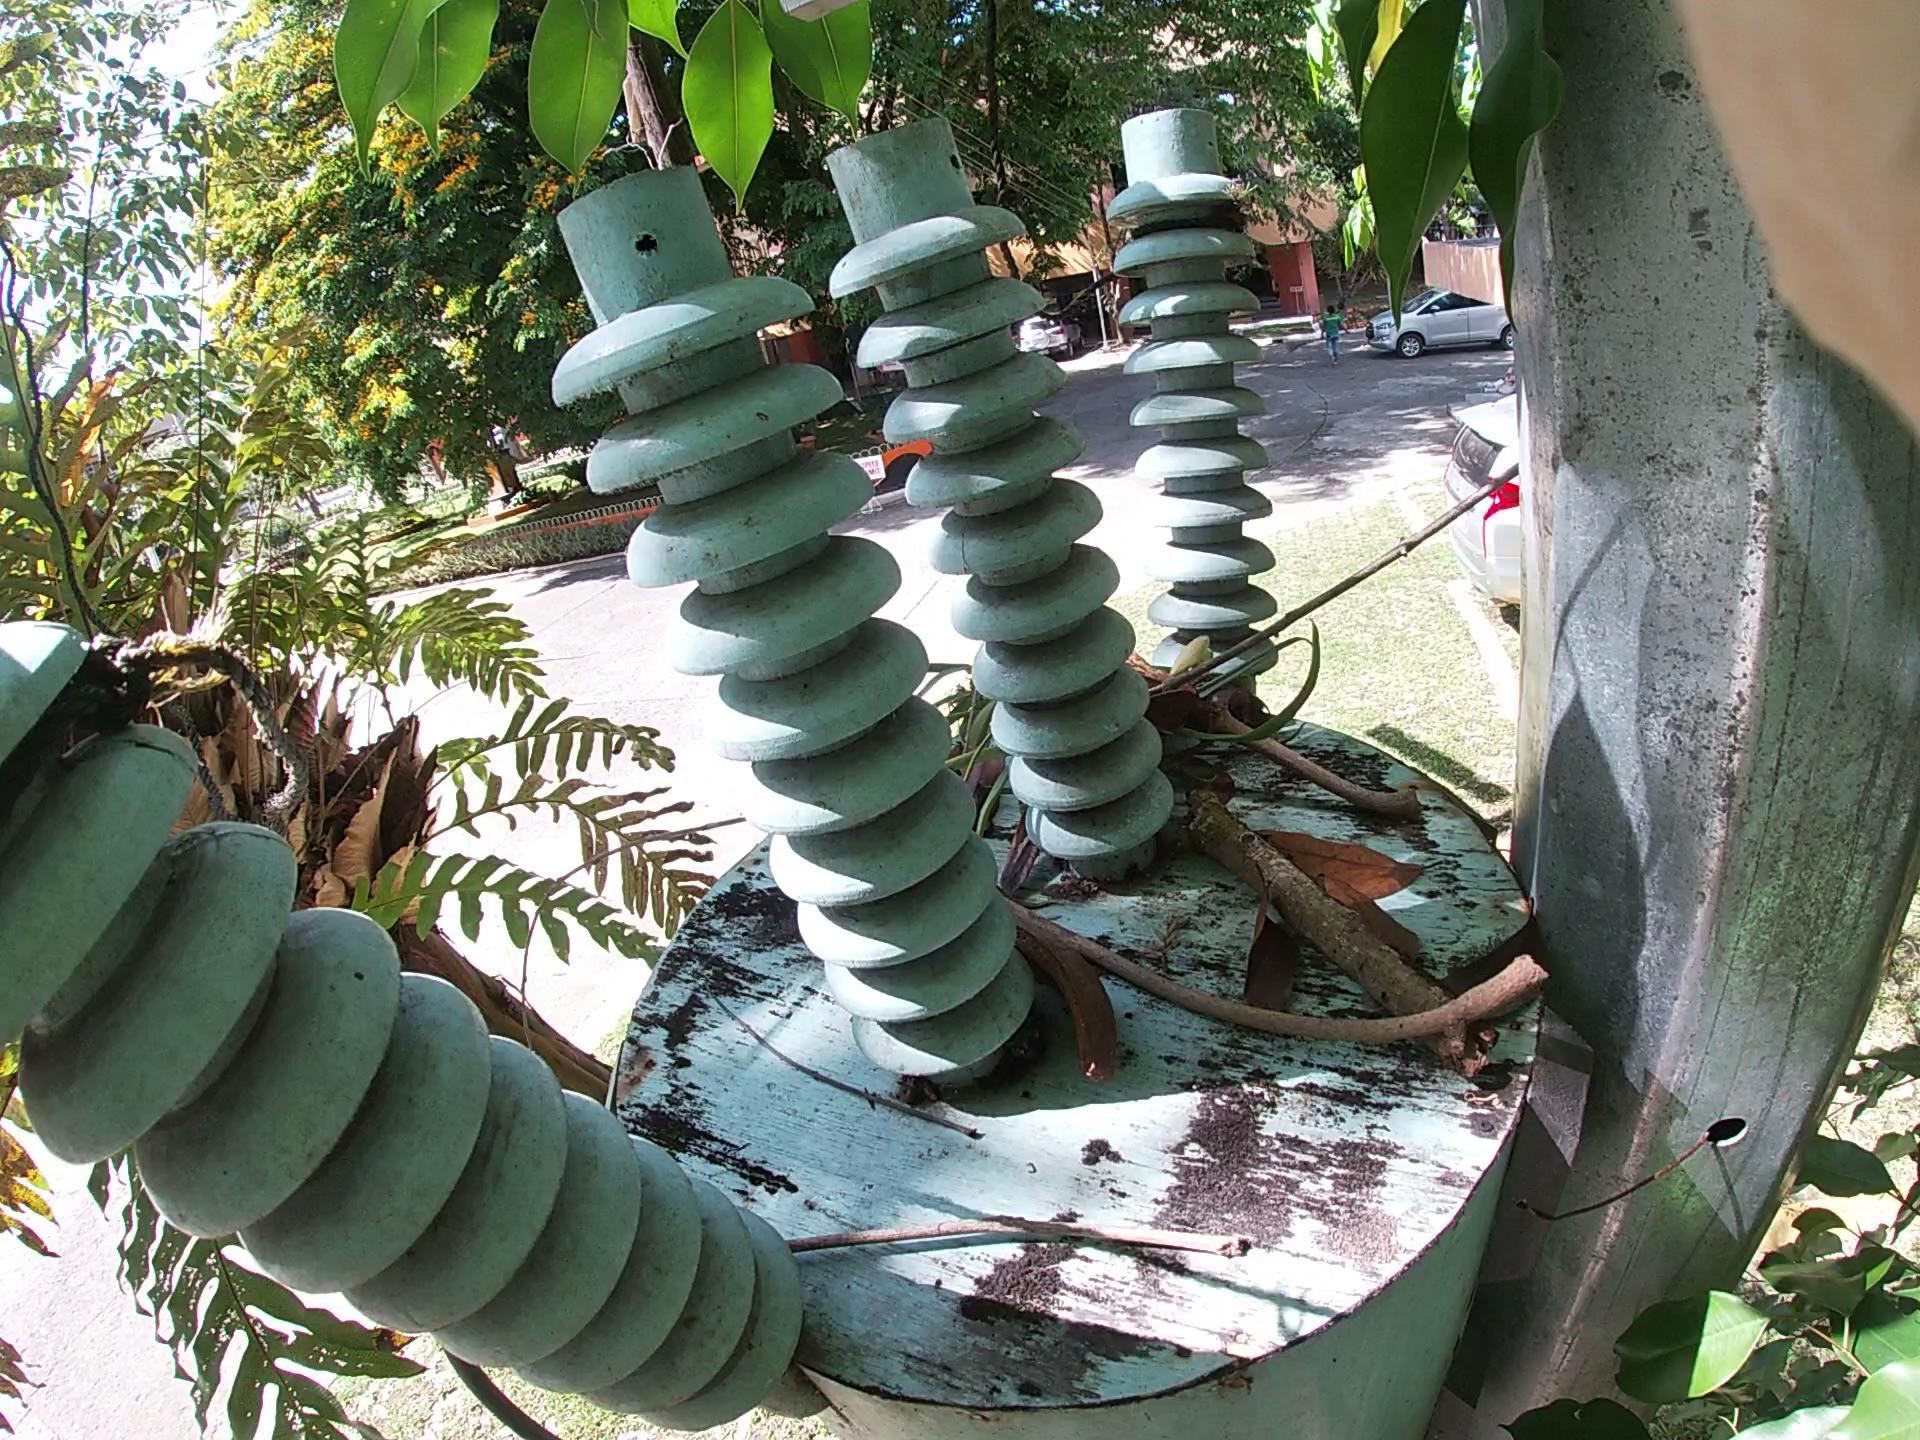branch with leaves: (883, 531, 1459, 1147)
leaf: (1199, 764, 1388, 1062)
tree branch: (1023, 360, 1609, 764), (962, 853, 1539, 1147), (838, 1125, 1203, 1271), (1212, 725, 1349, 843)
